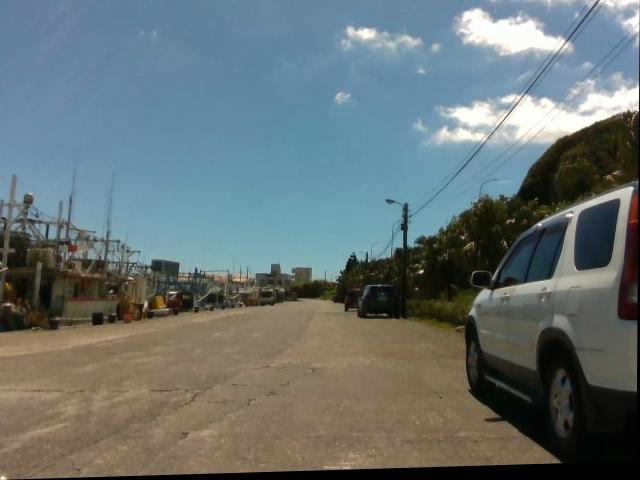pollute: (453, 328, 465, 336)
